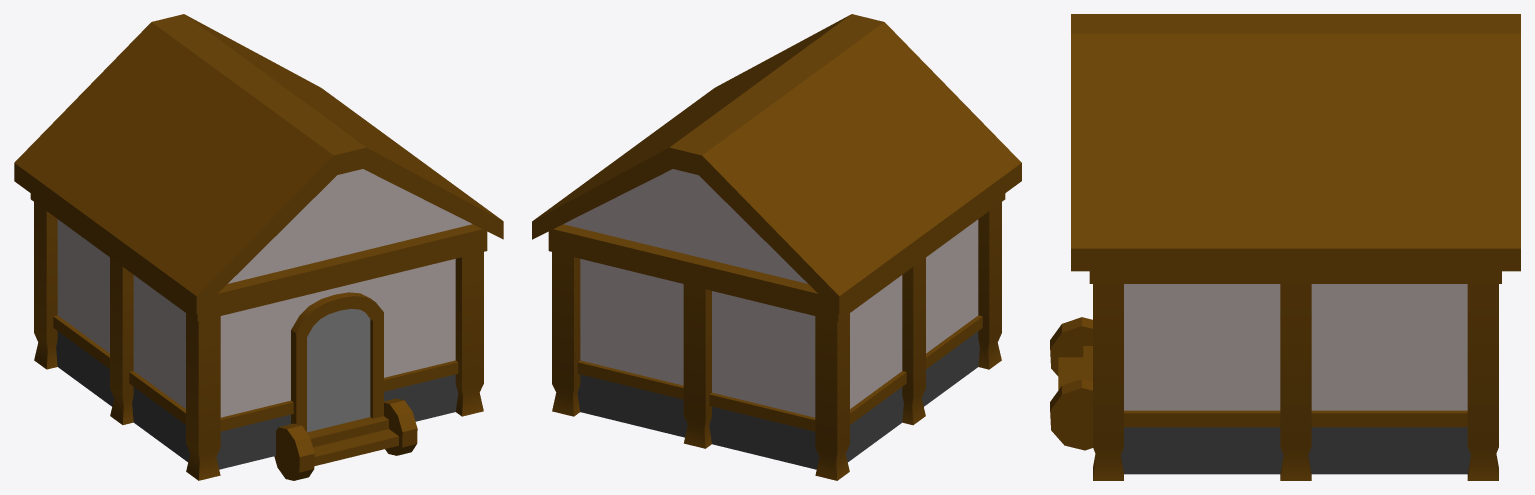
Rendered from Cabaña_6x6.fbx.
The picture shows the model from 3 angles, left to right: view 1: azimuth 30°, elevation 25°; view 2: azimuth 150°, elevation 25°; view 3: azimuth 270°, elevation 25°; orthographic projection. The views are drawn at different scales.
Visible parts, largest first — view 1: SM_Cabana_1_Techo, SM_Cabana_1_Techo__1_, SM_Cabana_1_Techo_Medio, Wall_6x4, SM_Cabana_1_Wall_Fill, SM_Cabana_1_BloqueH, puerta, SM_Cabana_1_Pilar, Wall_6x4_001, Wall_6x4_001_1, marco, SM_Cabana_1_Pilar__1_ (+10 smaller); view 2: SM_Cabana_1_Techo__1_, SM_Cabana_1_Techo, SM_Cabana_1_Techo_Medio, SM_Cabana_1_Wall_Fill__1_, Wall_6x4_001_3, Wall_6x4_001_2, SM_Cabana_1_BloqueH__1_, SM_Cabana_1_Pilar__5_, Wall_6x4_001, Wall_6x4_001_1, SM_Cabana_1_Pilar__4_, SM_Cabana_1_Pilar__3_ (+10 smaller); view 3: SM_Cabana_1_Techo__1_, SM_Cabana_1_Techo, SM_Cabana_1_Techo_Medio, Wall_6x4_001_4, Wall_6x4_001_5, Wall_6x4_003_5, Wall_6x4_003_4, SM_Cabana_1_Pilar__3_, SM_Cabana_1_Pilar__2_, SM_Cabana_1_Pilar__1_, troncos, Wall_6x4_002_4 (+5 smaller).
Boxes of the visible parts, x1,y1,x2,y2 form: SM_Cabana_1_Techo: (130, 99, 503, 314); SM_Cabana_1_Techo__1_: (14, 14, 385, 228); SM_Cabana_1_Techo_Medio: (80, 62, 436, 265); Wall_6x4: (220, 259, 455, 417); SM_Cabana_1_Wall_Fill: (228, 169, 472, 283); SM_Cabana_1_BloqueH: (139, 224, 487, 321); puerta: (307, 309, 370, 432); SM_Cabana_1_Pilar: (186, 313, 220, 480); Wall_6x4_001: (133, 275, 185, 408); Wall_6x4_001_1: (57, 219, 109, 353); marco: (291, 292, 383, 431); SM_Cabana_1_Pilar__1_: (455, 252, 483, 416); SM_Cabana_1_Techo__1_: (532, 99, 905, 314); SM_Cabana_1_Techo: (649, 14, 1021, 228); SM_Cabana_1_Techo_Medio: (599, 62, 955, 265); SM_Cabana_1_Wall_Fill__1_: (563, 169, 807, 283); Wall_6x4_001_3: (580, 259, 683, 385); Wall_6x4_001_2: (712, 291, 815, 417); SM_Cabana_1_BloqueH__1_: (548, 224, 896, 321); SM_Cabana_1_Pilar__5_: (815, 313, 849, 480); Wall_6x4_001: (926, 219, 978, 353); Wall_6x4_001_1: (850, 275, 902, 408); SM_Cabana_1_Pilar__4_: (683, 284, 711, 448); SM_Cabana_1_Pilar__3_: (552, 252, 580, 416); SM_Cabana_1_Techo__1_: (1358, 14, 1520, 271); SM_Cabana_1_Techo: (1071, 14, 1233, 271); SM_Cabana_1_Techo_Medio: (1233, 14, 1358, 271); Wall_6x4_001_4: (1311, 284, 1467, 410); Wall_6x4_001_5: (1124, 284, 1280, 410); Wall_6x4_003_5: (1121, 427, 1283, 474); Wall_6x4_003_4: (1308, 427, 1470, 474); SM_Cabana_1_Pilar__3_: (1467, 284, 1498, 480); SM_Cabana_1_Pilar__2_: (1280, 284, 1311, 480); SM_Cabana_1_Pilar__1_: (1093, 284, 1123, 480); troncos: (1050, 317, 1092, 450); Wall_6x4_002_4: (1311, 410, 1467, 427).
Bounding box in the file's own units: 700 × 691 × 753.
